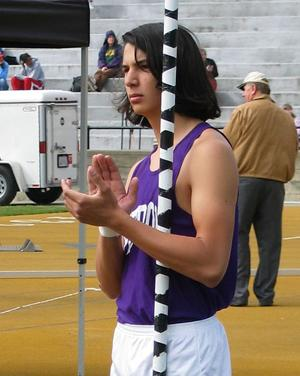person: (59, 21, 238, 376)
